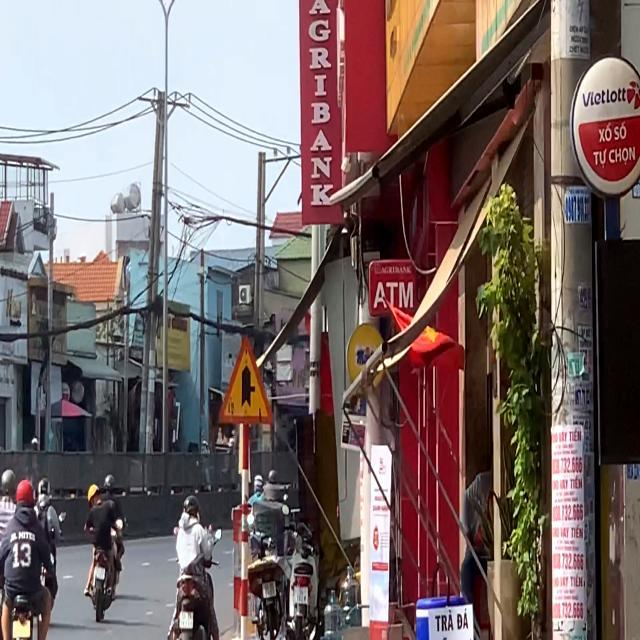W-207b: (215, 336, 275, 426)
